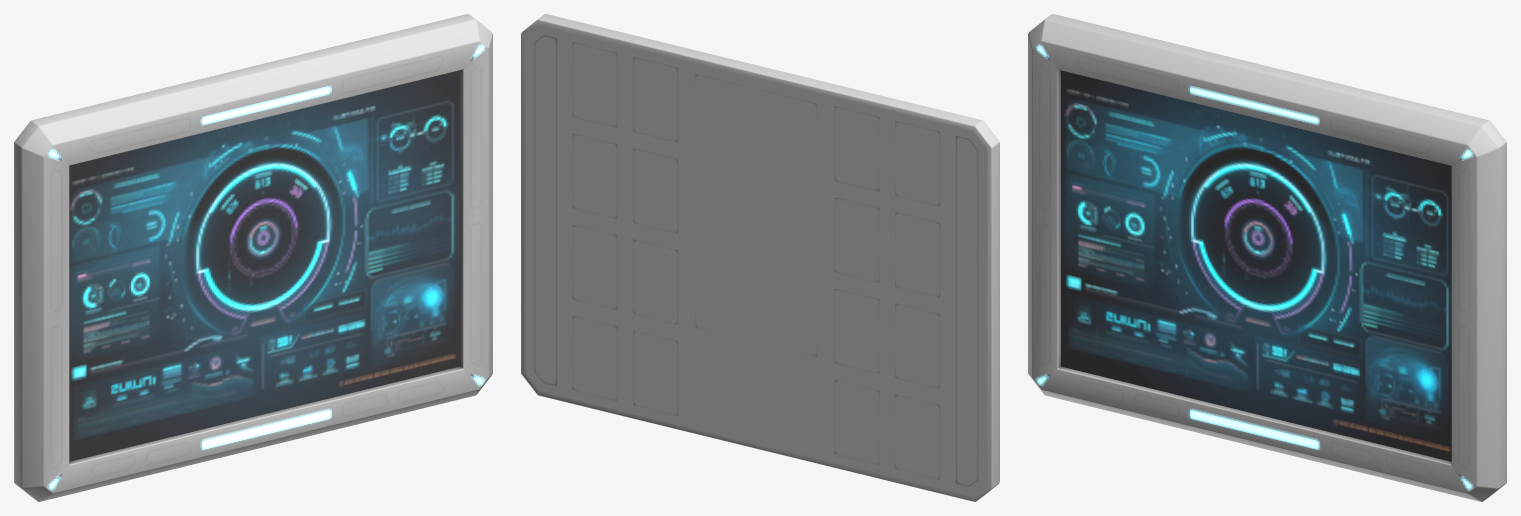
The model's file is Display01_1.FBX.
3 views of the same model, side by side, from view 1: azimuth 30°, elevation 25°; view 2: azimuth 150°, elevation 25°; view 3: azimuth 330°, elevation 25° (orthographic).
Parts seen in each view (by area): view 1: Display01_1; view 2: Display01_1; view 3: Display01_1.
Part boxes in pixels (box(x1,y1,x2,y2)): Display01_1: box(14, 14, 492, 501); Display01_1: box(521, 14, 999, 501); Display01_1: box(1028, 14, 1506, 501).
Size of what is drawn, in the model's own units: 1.03 by 0.7859 by 0.0647.
